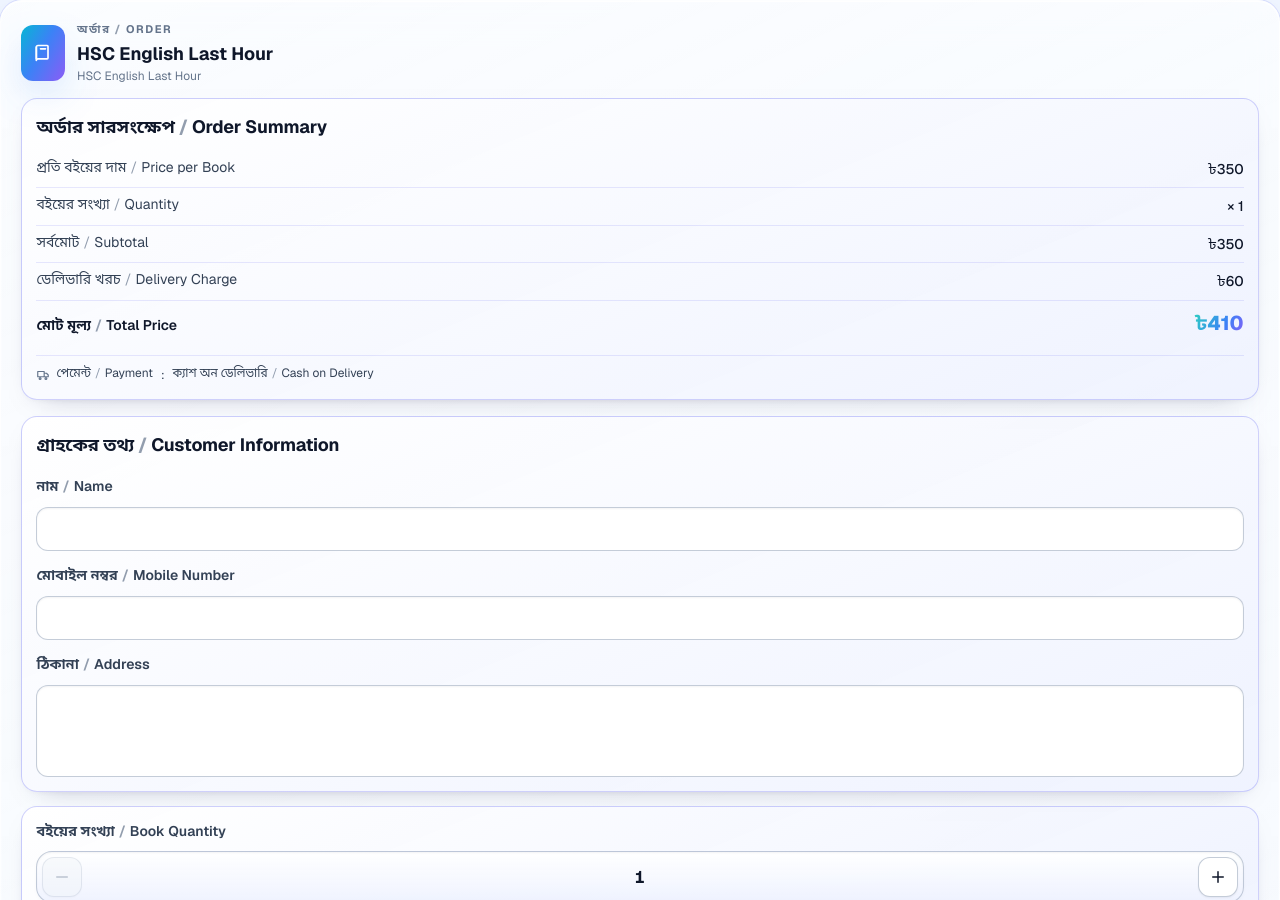
it: OrderForm › defaults the quantity to 1 and recalculates the total when changed
Check: the element named "Book Quantity" reads "1", box [635,866,645,888]
Check: the text "৳410" is shown, box [1194,309,1244,337]
Click the button named "Increase quantity" at (1218, 878), box [1198,858,1238,898]
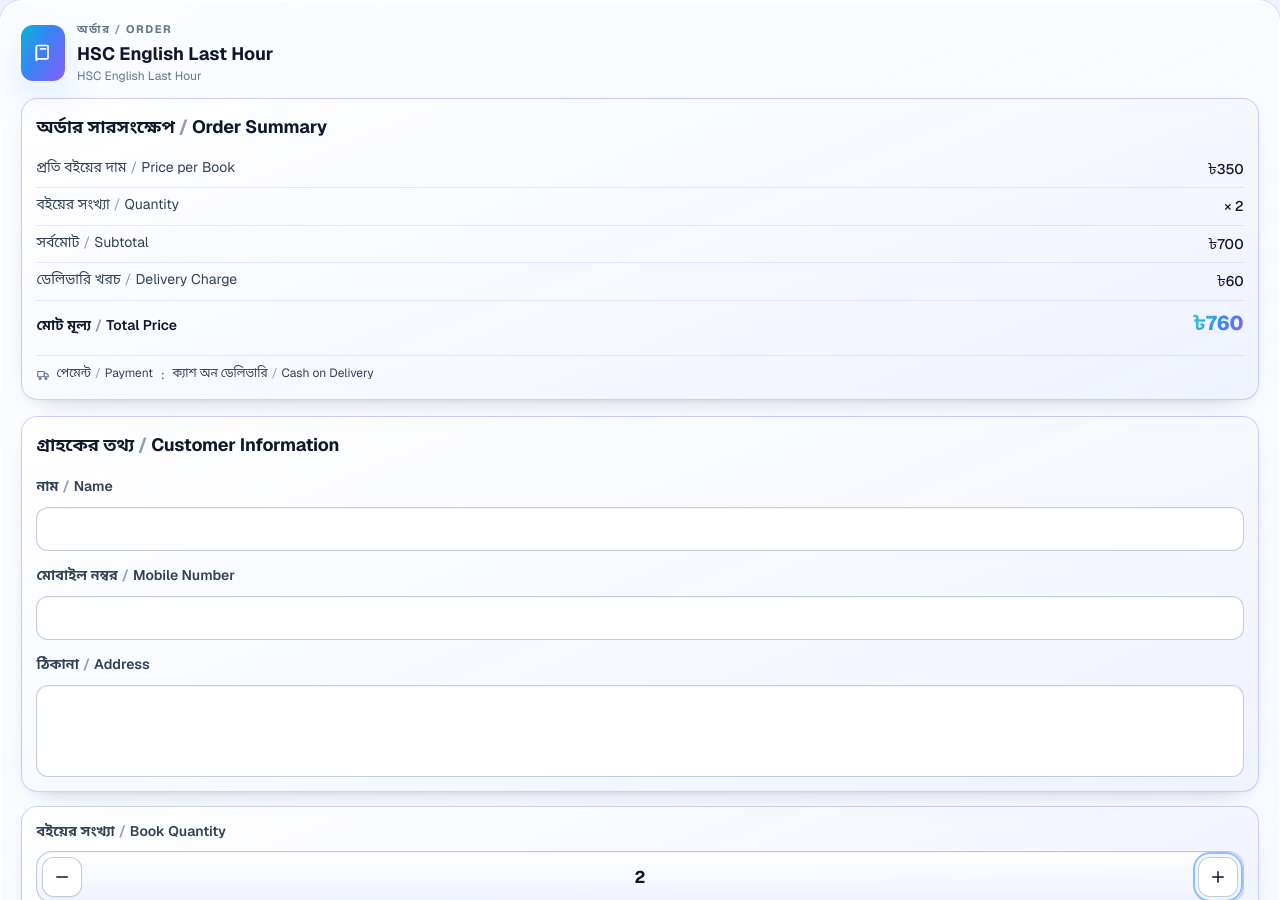
Click the button named "Increase quantity" at (1218, 878), box [1198,858,1238,898]
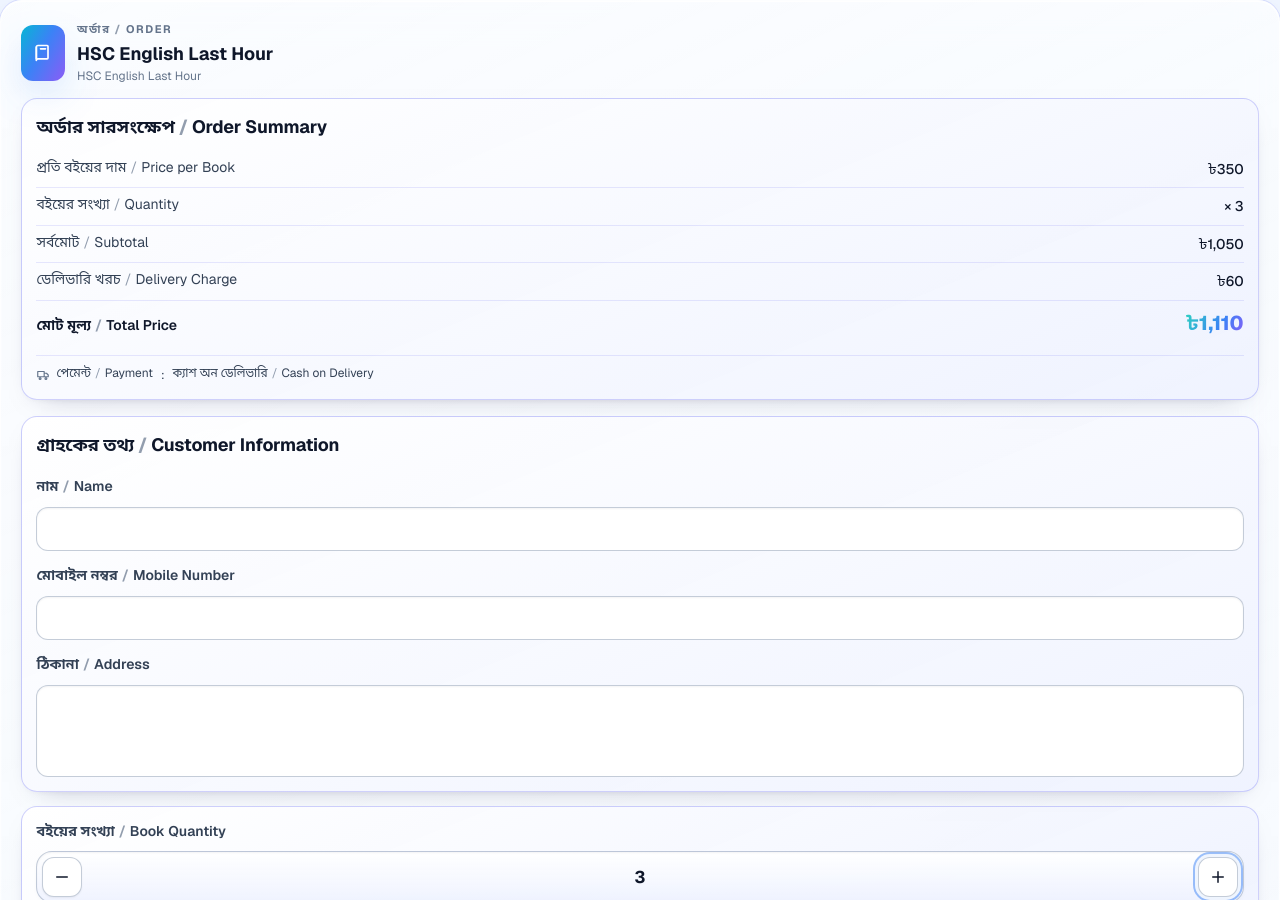
Click the button named "Increase quantity" at (1218, 878), box [1198,858,1238,898]
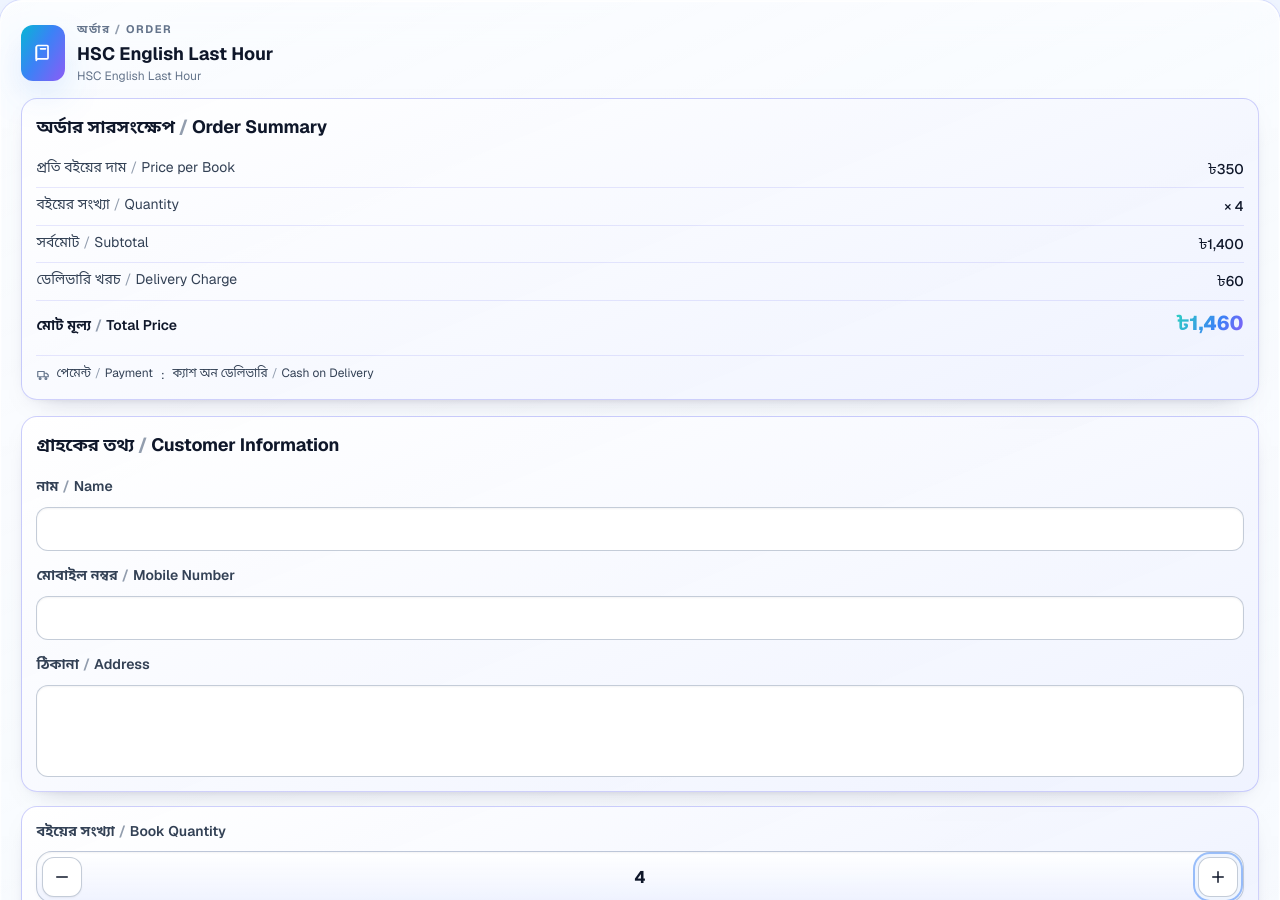
Check: the element named "Book Quantity" reads "4", box [635,866,645,888]
Check: the text "৳1,460" is shown, box [1176,309,1244,337]
Check: the text "৳1,400" is shown, box [1198,234,1244,254]
